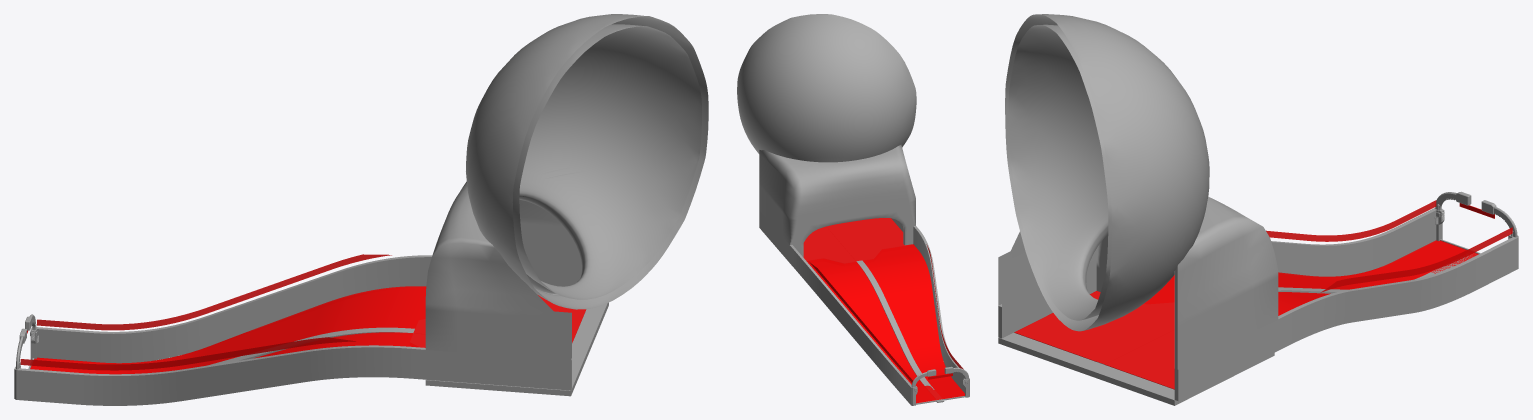
The model's file is grp_start 1.fbx.
3 renders of one model, left to right at view 1: azimuth 30°, elevation 25°; view 2: azimuth 150°, elevation 25°; view 3: azimuth 270°, elevation 25°, orthographic. The views are drawn at different scales.
Parts seen in each view (by area): view 1: Sphere_EndTunnel, start_walls, HallStart, start_floors; view 2: Sphere_EndTunnel, start_floors, HallStart, start_walls; view 3: Sphere_EndTunnel, start_walls, HallStart, start_floors.
Part boxes in pixels (box(x1,y1,x2,y2)): Sphere_EndTunnel: box(466, 14, 708, 309); start_walls: box(14, 254, 581, 405); HallStart: box(425, 166, 584, 360); start_floors: box(27, 286, 608, 396); Sphere_EndTunnel: box(737, 14, 916, 162); start_floors: box(762, 218, 965, 404); HallStart: box(759, 144, 915, 257); start_walls: box(759, 210, 969, 405); Sphere_EndTunnel: box(1005, 14, 1209, 331); start_walls: box(998, 191, 1518, 400); HallStart: box(998, 197, 1278, 369); start_floors: box(998, 203, 1494, 405).
Size of the model in its own units: 10528 by 7576 by 8353.
